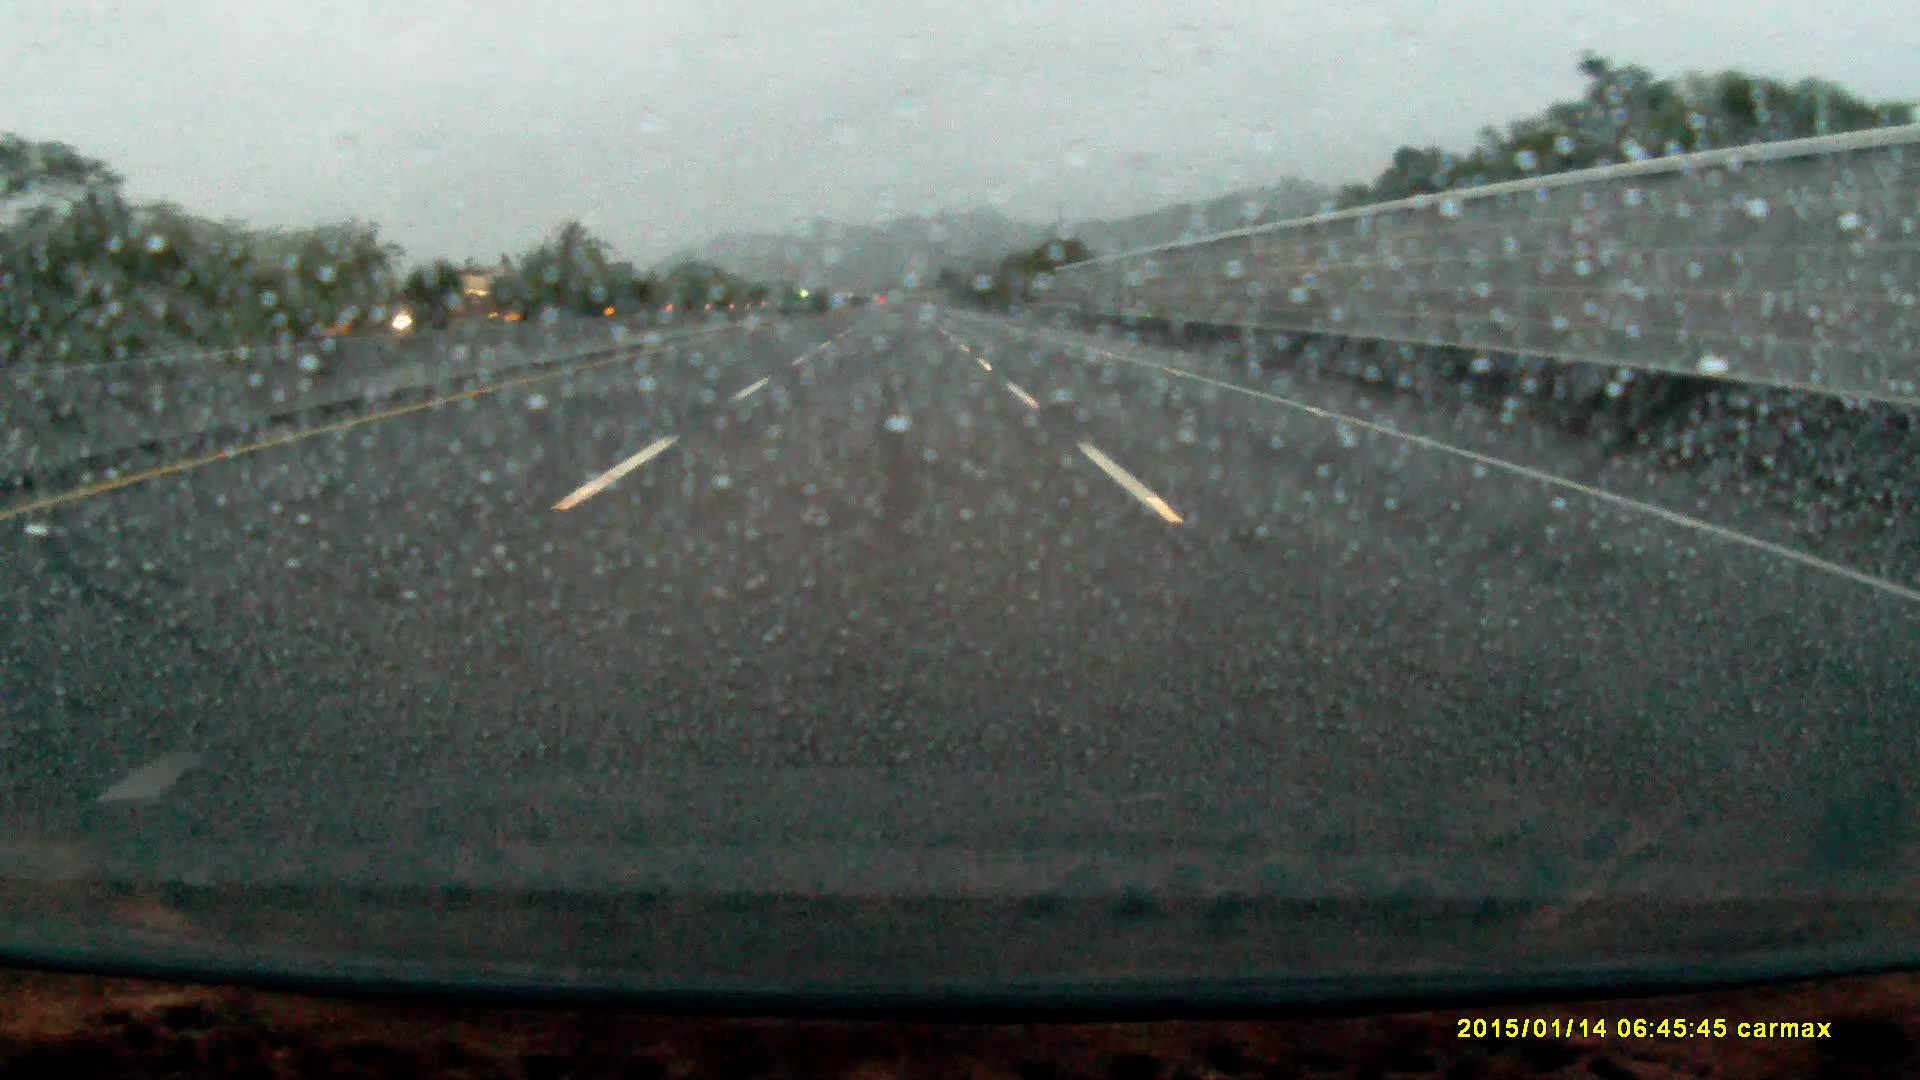vehicle: (404, 272, 502, 326)
